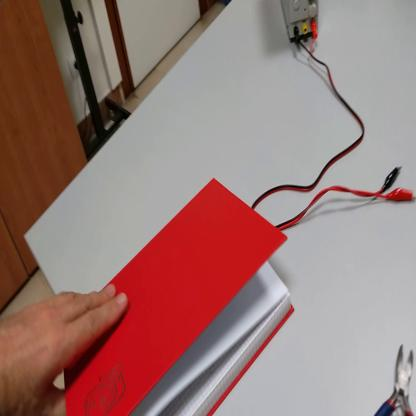hand: (2, 281, 131, 415)
pliers: (377, 343, 416, 416)
power supply: (281, 1, 321, 51)
register: (65, 180, 296, 414)
